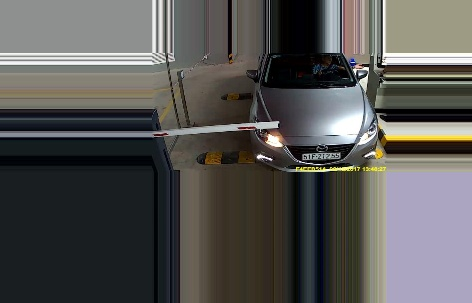plate: (298, 150, 344, 163)
